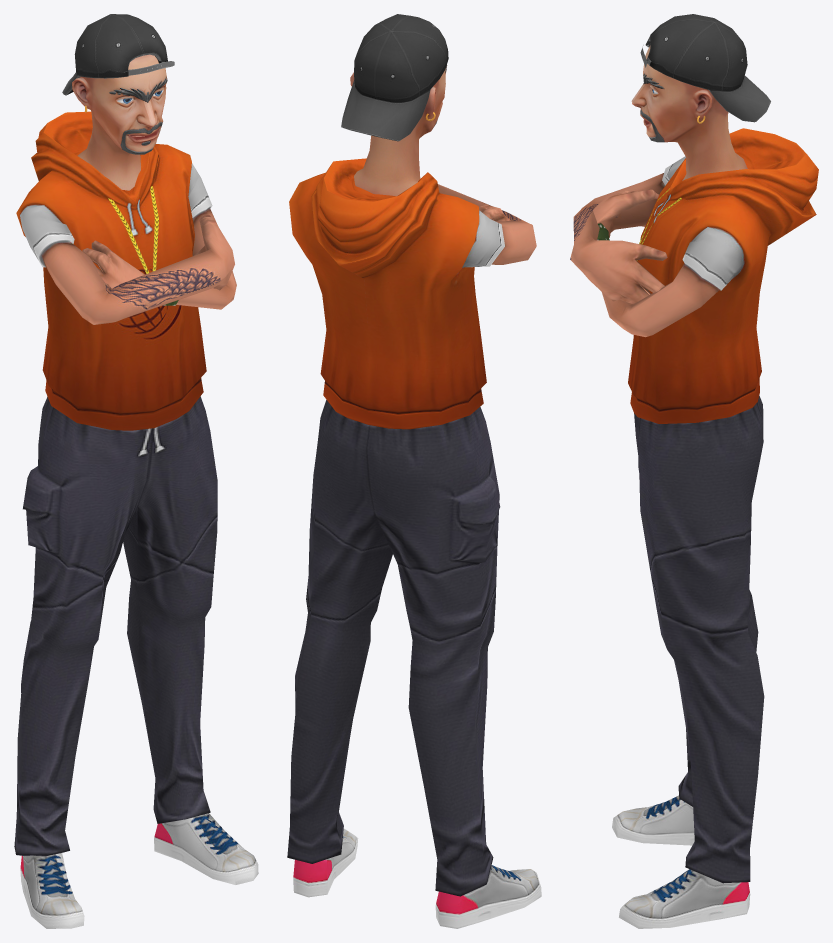
3 renders of one model, left to right at view 1: azimuth 30°, elevation 25°; view 2: azimuth 150°, elevation 25°; view 3: azimuth 270°, elevation 25°, orthographic.
Visible parts, largest first — view 1: B2_down, B2_Top, B2_Head, B2_Hair; view 2: B2_down, B2_Top, B2_Hair, B2_Head; view 3: B2_down, B2_Top, B2_Hair, B2_Head.
Part boxes in pixels (left/top/right/bottom): B2_down: left=14, top=396, right=258, bottom=928; B2_Top: left=16, top=111, right=236, bottom=430; B2_Head: left=72, top=54, right=167, bottom=190; B2_Hair: left=62, top=14, right=174, bottom=95; B2_down: left=287, top=400, right=541, bottom=928; B2_Top: left=289, top=158, right=536, bottom=429; B2_Hair: left=341, top=14, right=448, bottom=141; B2_Head: left=350, top=65, right=447, bottom=196; B2_down: left=612, top=396, right=764, bottom=928; B2_Top: left=570, top=128, right=818, bottom=423; B2_Hair: left=640, top=14, right=770, bottom=122; B2_Head: left=631, top=45, right=747, bottom=180.
Size of the model in its own units: 0.4367 by 1.66 by 0.4378.
Materials: 4 (4 with a texture image).
